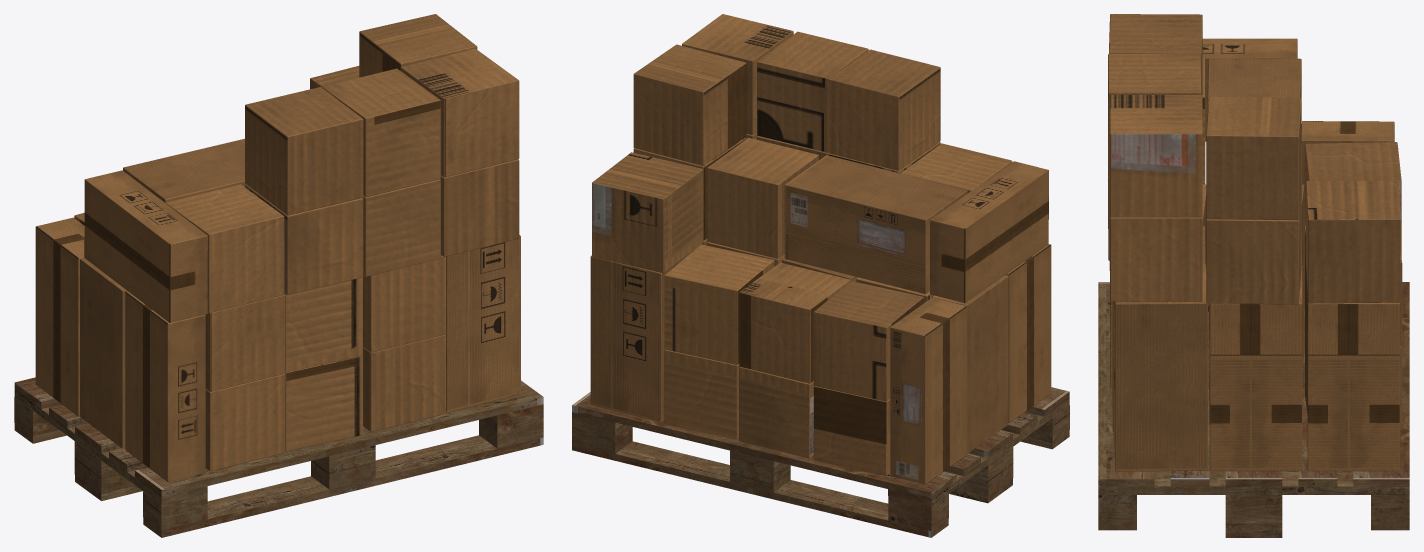
File: коробки.fbx
3 views of the same model, side by side, from view 1: azimuth 30°, elevation 25°; view 2: azimuth 150°, elevation 25°; view 3: azimuth 270°, elevation 25° (orthographic). The views are drawn at different scales.
Visible parts, largest first — view 1: object_0, object_1, object_3, object_2; view 2: object_0, object_1, object_2, object_3; view 3: object_0, object_2, object_3, object_1.
Boxes of the visible parts, x1,y1,x2,y2 form: object_0: (74, 14, 519, 471); object_1: (35, 170, 207, 481); object_3: (14, 377, 543, 537); object_2: (123, 138, 520, 412); object_0: (592, 14, 1012, 475); object_1: (890, 161, 1051, 484); object_2: (590, 155, 967, 422); object_3: (572, 387, 1069, 537); object_0: (1108, 14, 1402, 432); object_2: (1113, 58, 1400, 471); object_3: (1098, 282, 1409, 537); object_1: (1202, 38, 1394, 307).
Bounding box in the file's own units: 210 × 195 × 140.
